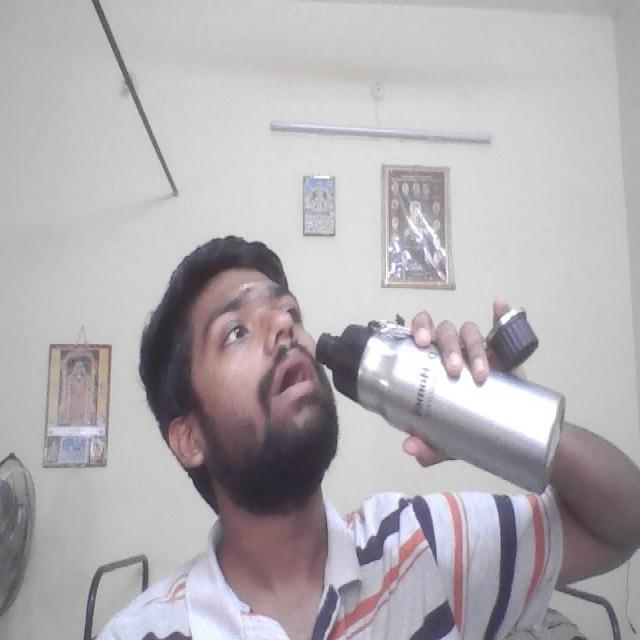Drinking: (324, 309, 570, 488)
